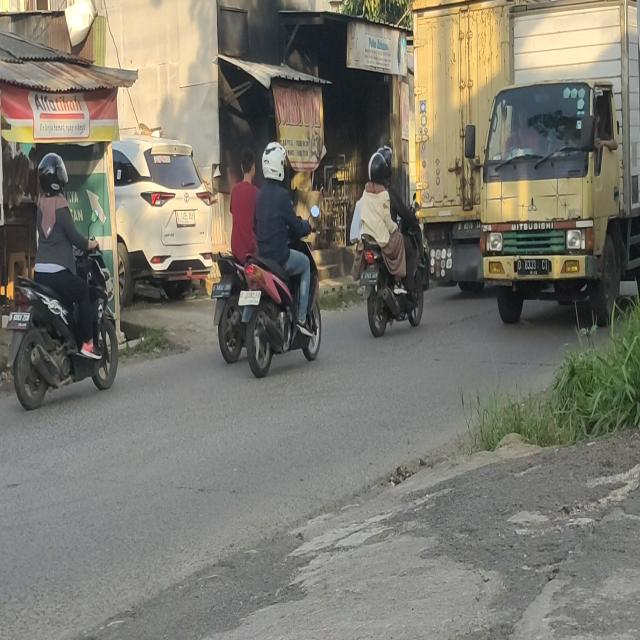helmet: (39, 154, 69, 194), (263, 143, 287, 184), (370, 152, 388, 184), (378, 146, 393, 180)
no-helmet: (240, 150, 258, 184)
